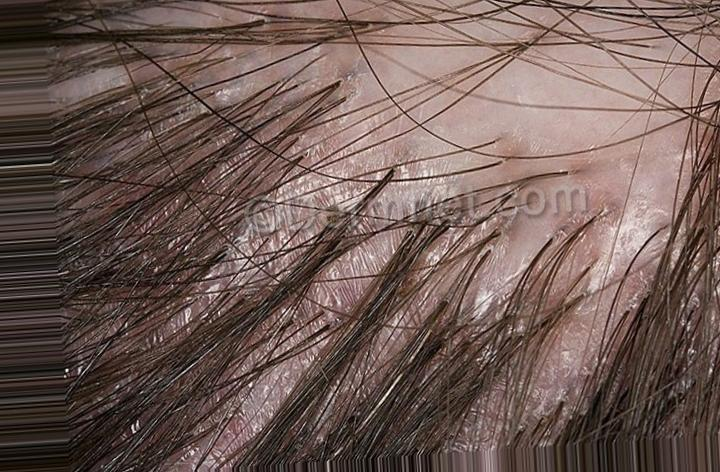Folliculitis: (310, 79, 648, 323)
